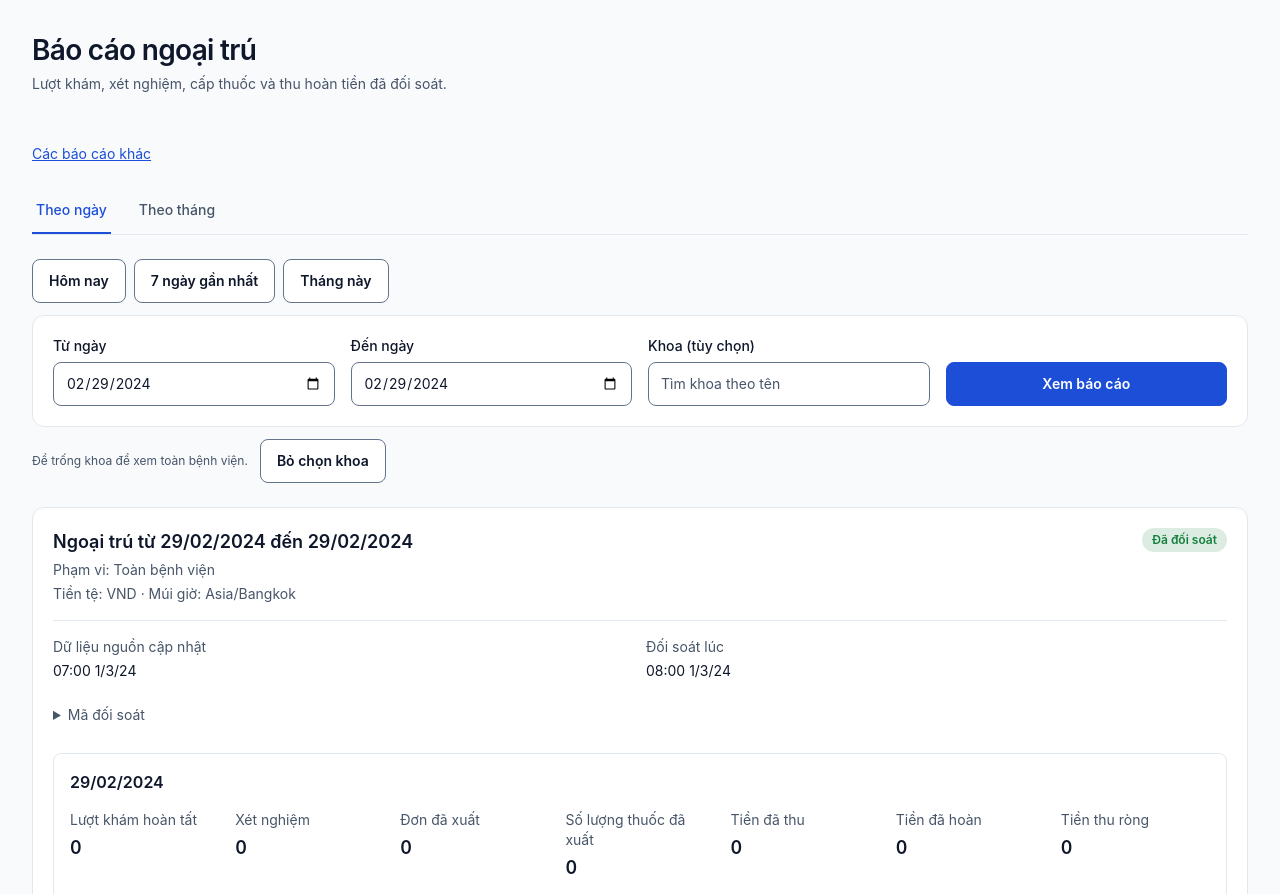
Test: Outpatient report workspace › quick date choices update the draft without fetching a different report automatically
Click the button "7 ngày gần nhất".
click(204, 281)  # box [134,259,275,303]
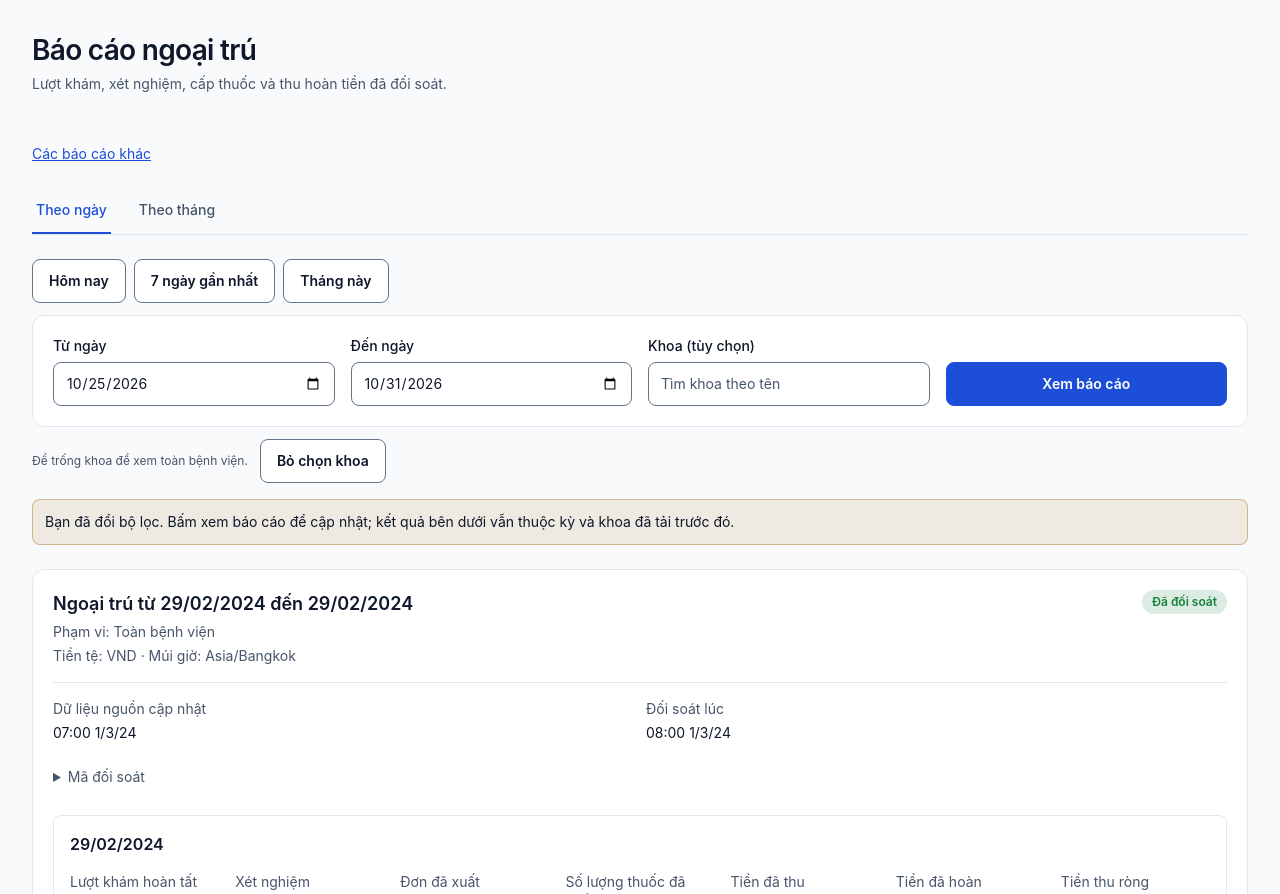
Check: the text "Bạn đã đổi bộ lọc" is shown, box [45,513,734,530]
Click the button "Tháng này".
click(336, 281)  # box [283,259,388,303]
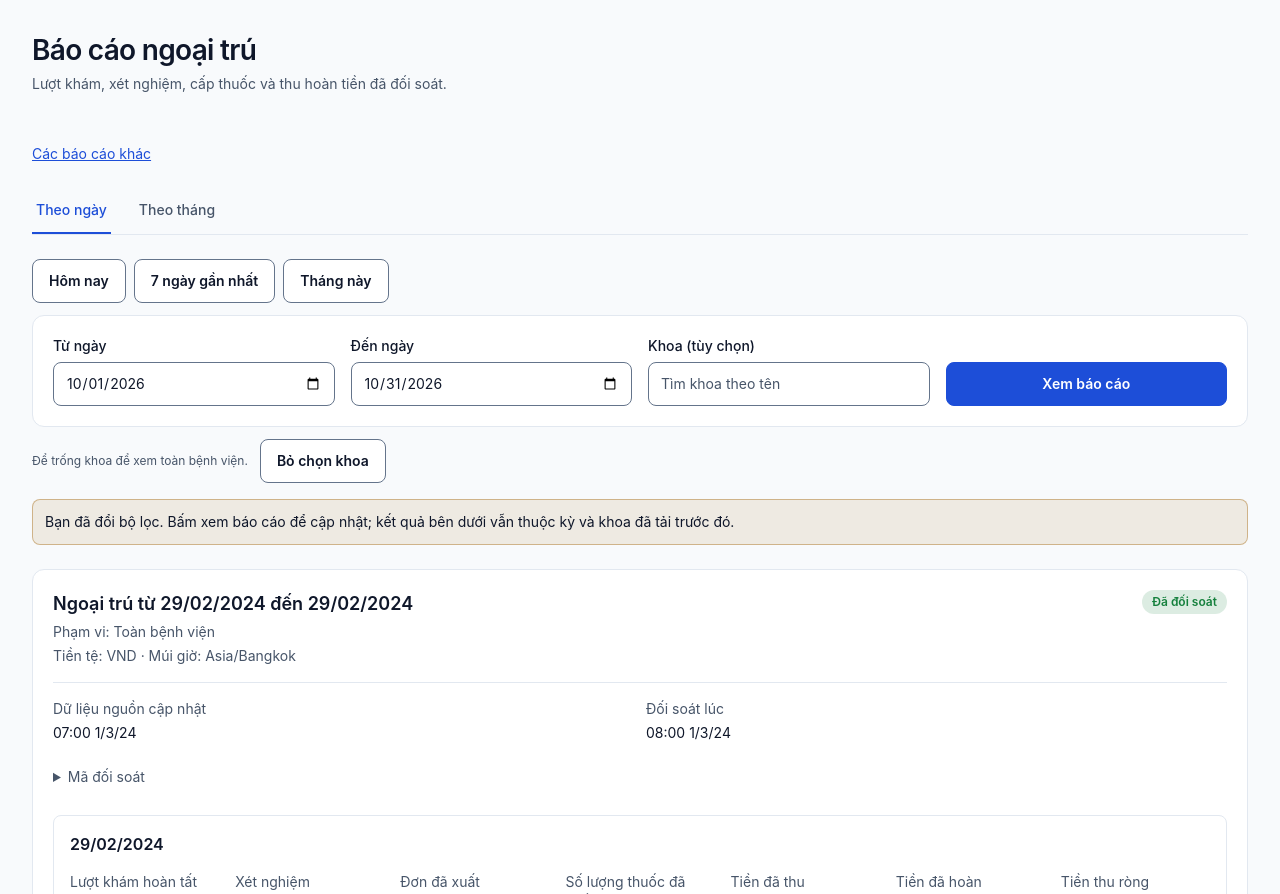
Check: the date field labelled "Từ ngày" holds "2026-10-01", box [53,362,334,406]
